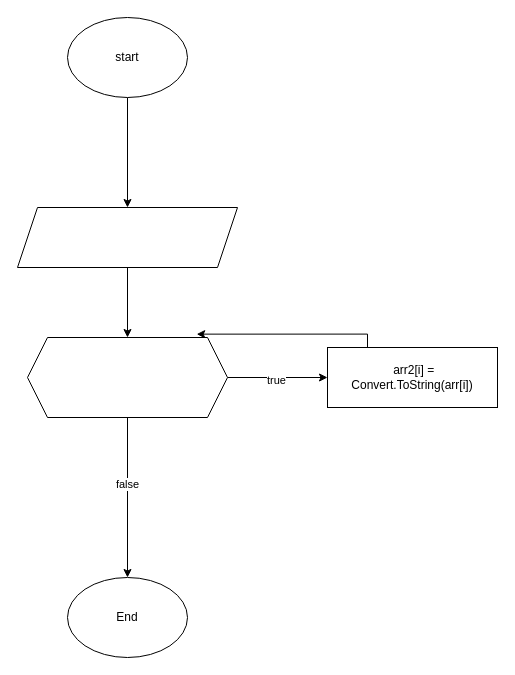
Image size: 515x675. Some labels were removed from this diagram. Each missing label, with the centre of its shape:
"int i = 0; i < arr.Length; i++" belongs at point (127, 377).
"int[] arr = { 4, 6, 11, 2, 23 }; string[] arr2 = new string[5];" belongs at point (127, 237).
